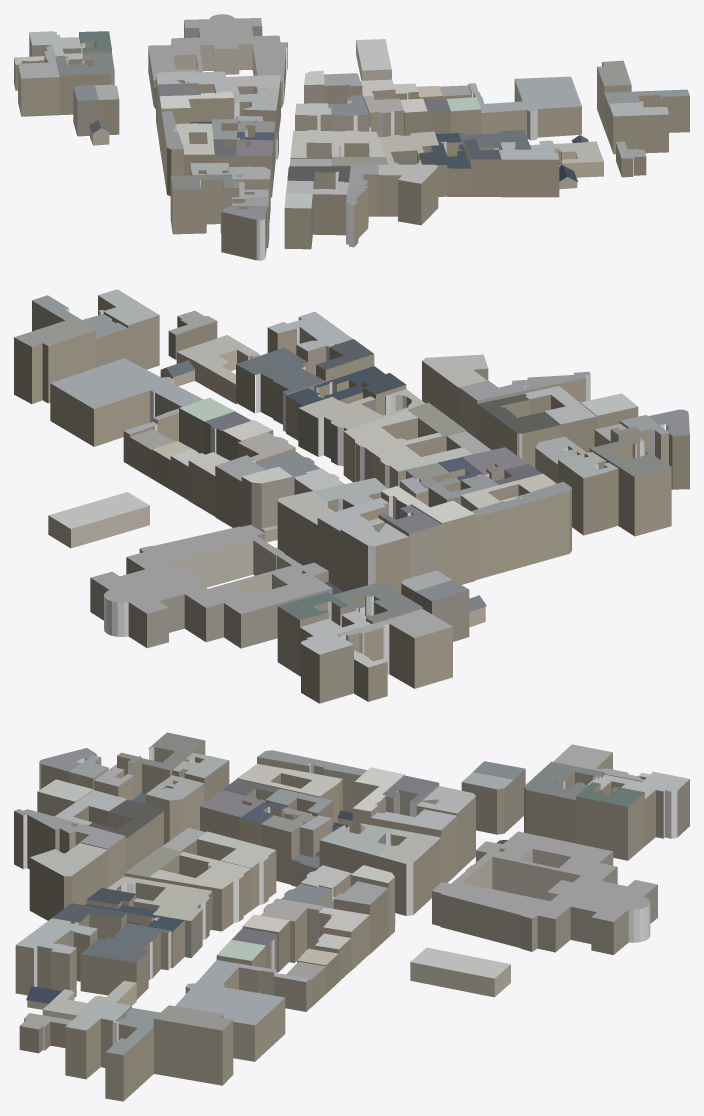
The picture shows the model from 3 angles, top to bottom: view 1: azimuth 30°, elevation 25°; view 2: azimuth 150°, elevation 25°; view 3: azimuth 270°, elevation 25°; orthographic projection. The views are drawn at different scales.
Visible parts, largest first — view 1: tuile; view 2: tuile; view 3: tuile.
Boxes of the visible parts, x1,y1,x2,y2 form: tuile: (14, 14, 689, 260); tuile: (14, 289, 689, 703); tuile: (14, 732, 689, 1101).
Size of the model in its own units: 289 by 29.43 by 266.
